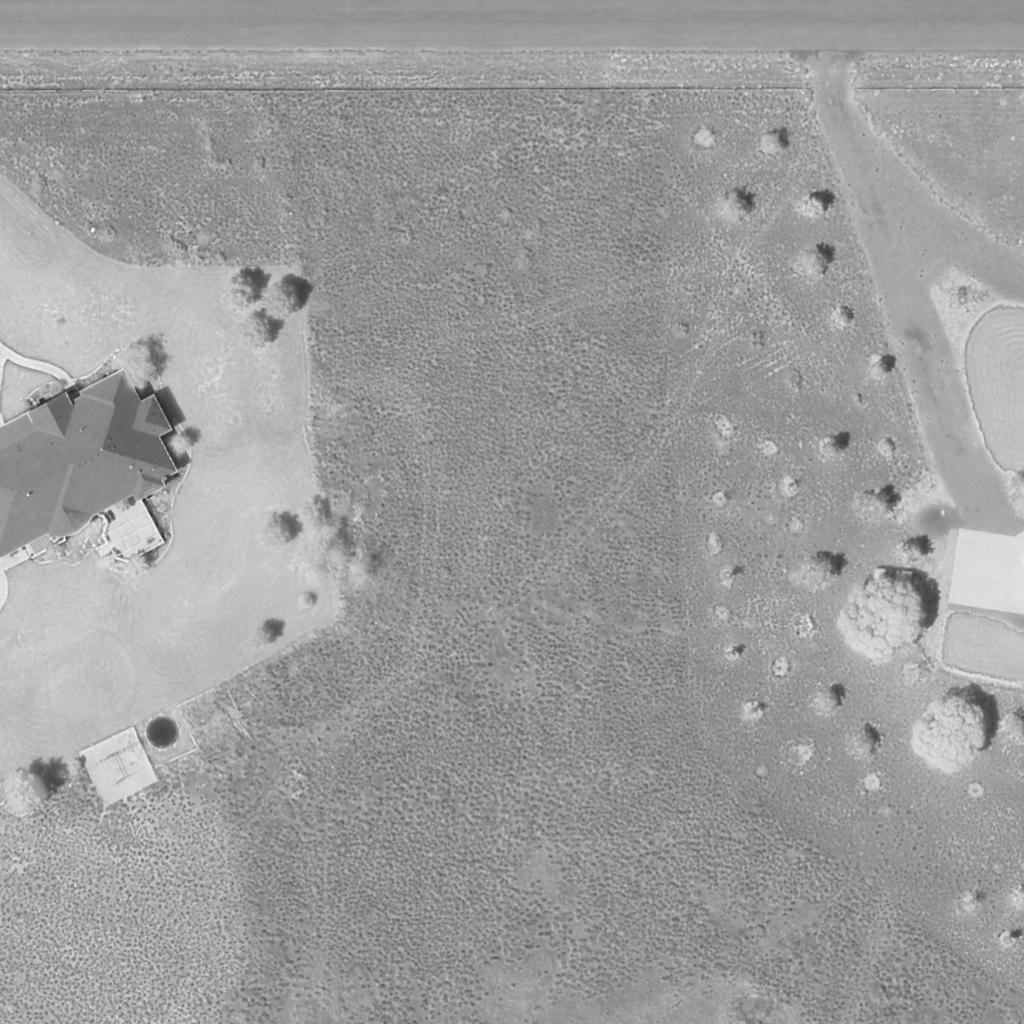vehicle: (871, 567, 917, 591)
